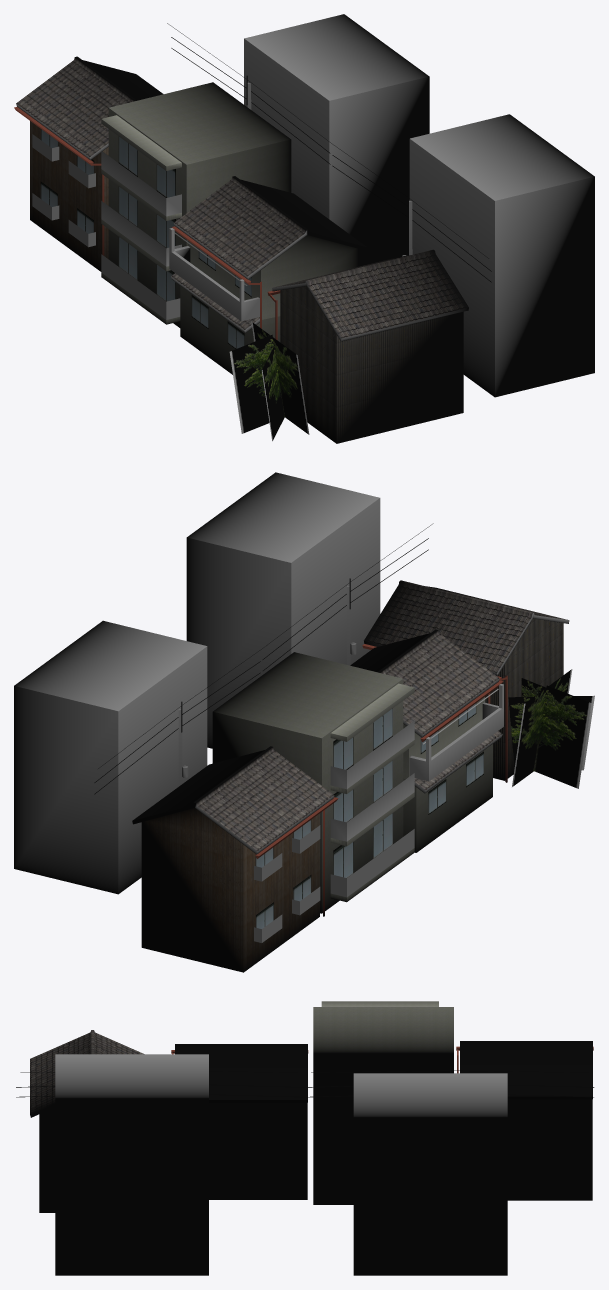
Rendered from AMB_HOUSE01.glb.
3 renders of one model, top to bottom at view 1: azimuth 30°, elevation 25°; view 2: azimuth 150°, elevation 25°; view 3: azimuth 270°, elevation 25°, orthographic. The views are drawn at different scales.
Parts seen in each view (by area): view 1: obj85, obj84, obj79, obj80, obj78, ie_l1, obj70, obj83, obj82; view 2: obj84, obj85, ie_l1, obj80, obj78, obj79, obj70, obj82, obj83; view 3: obj85, obj84, obj78, obj80, ie_l1, obj79, obj82, obj83.
Boxes of the visible parts, box(x1,y1,x2,y2) form: obj85: box(409, 114, 594, 397); obj84: box(244, 14, 429, 266); obj79: box(267, 249, 468, 443); obj80: box(101, 82, 291, 327); obj78: box(169, 176, 367, 374); ie_l1: box(14, 56, 163, 271); obj70: box(229, 321, 309, 441); obj83: box(328, 141, 491, 282); obj82: box(167, 23, 330, 164); obj84: box(14, 620, 207, 894); obj85: box(186, 472, 380, 748); ie_l1: box(132, 746, 338, 972); obj80: box(212, 652, 414, 913); obj78: box(350, 629, 503, 852); obj79: box(362, 580, 569, 782); obj70: box(508, 669, 594, 788); obj82: box(94, 646, 265, 794); obj83: box(262, 523, 433, 670); obj85: box(55, 1054, 208, 1275); obj84: box(353, 1073, 507, 1275); obj78: box(171, 1044, 308, 1199); obj80: box(313, 1001, 453, 1204); ie_l1: box(456, 1041, 593, 1200); obj79: box(30, 1030, 144, 1212); obj82: box(307, 1066, 594, 1097); obj83: box(16, 1071, 303, 1097).
Bounding box in the file's own units: 60.41 × 34.92 × 101.
20 materials, 20 textured.
